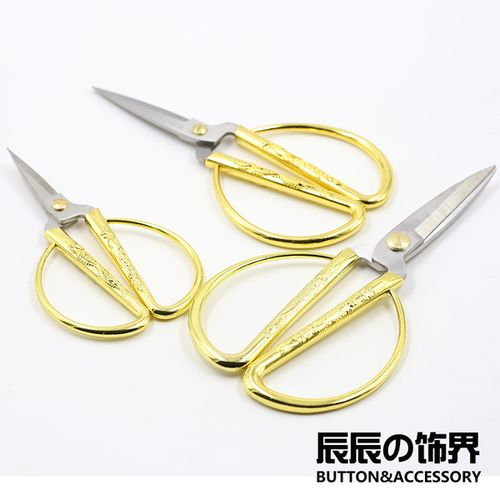scissor: (188, 163, 499, 415), (91, 82, 394, 250), (3, 144, 202, 340)
